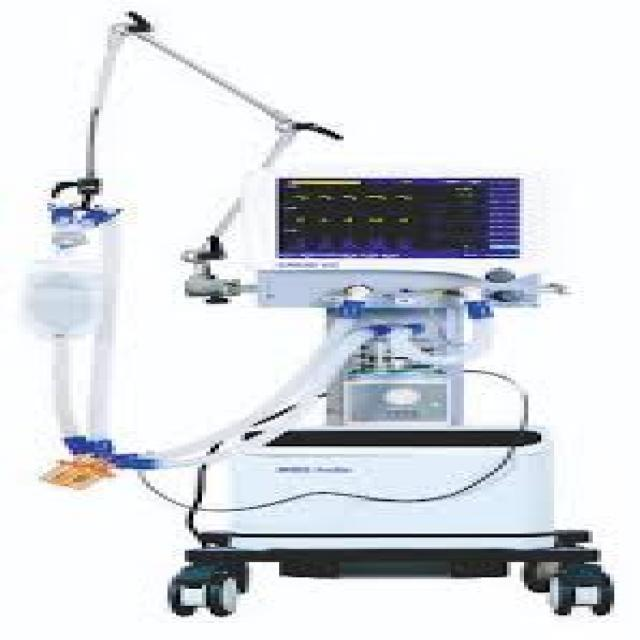ventilator: (42, 1, 625, 632)
